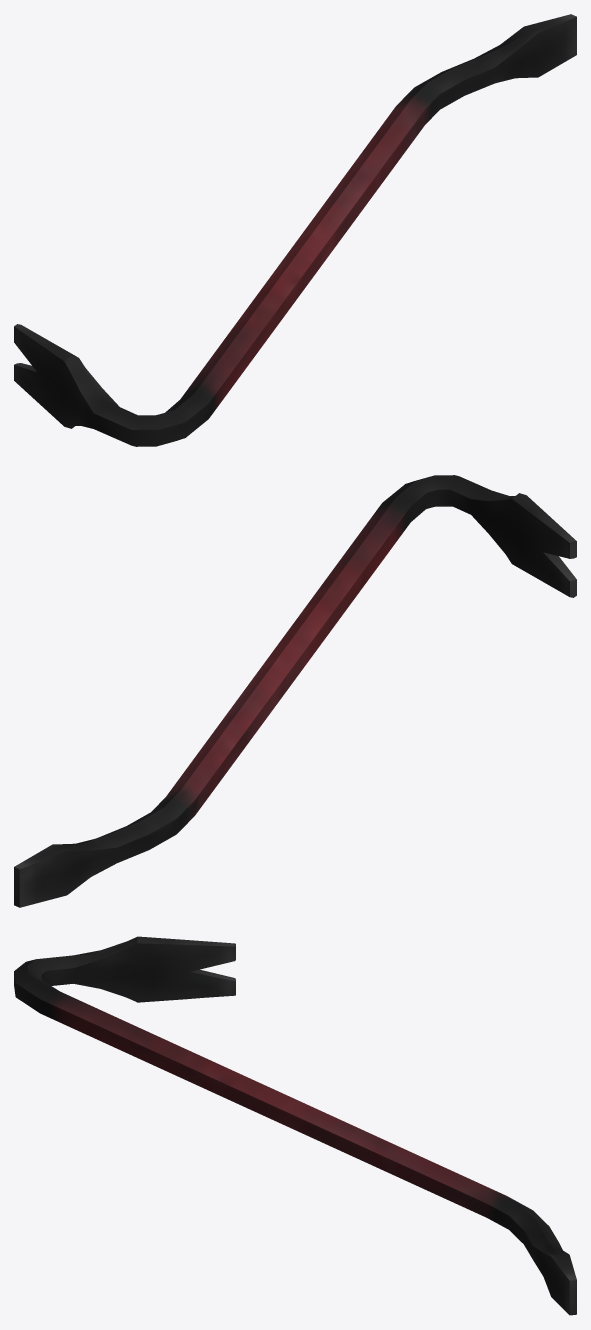
The model's file is Crowbar.fbx.
3 renders of one model, top to bottom at view 1: azimuth 30°, elevation 25°; view 2: azimuth 210°, elevation 25°; view 3: azimuth 270°, elevation 25°, orthographic. The views are drawn at different scales.
Parts seen in each view (by area): view 1: Crowbar; view 2: Crowbar; view 3: Crowbar.
Boxes of the visible parts, left/top/right/bottom form: Crowbar: left=14, top=14, right=576, bottom=446; Crowbar: left=14, top=475, right=576, bottom=907; Crowbar: left=14, top=936, right=576, bottom=1315.
Bounding box in the file's own units: 126 × 11.67 × 89.97.
1 material, 1 textured.
